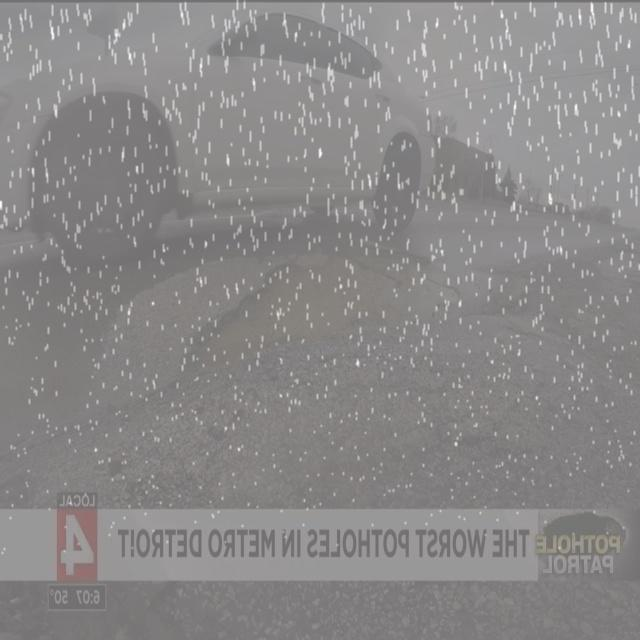Pothole: (151, 233, 431, 386)
